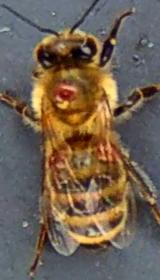varroa_mite: (84, 123, 128, 174), (46, 131, 76, 181), (51, 76, 89, 110)
